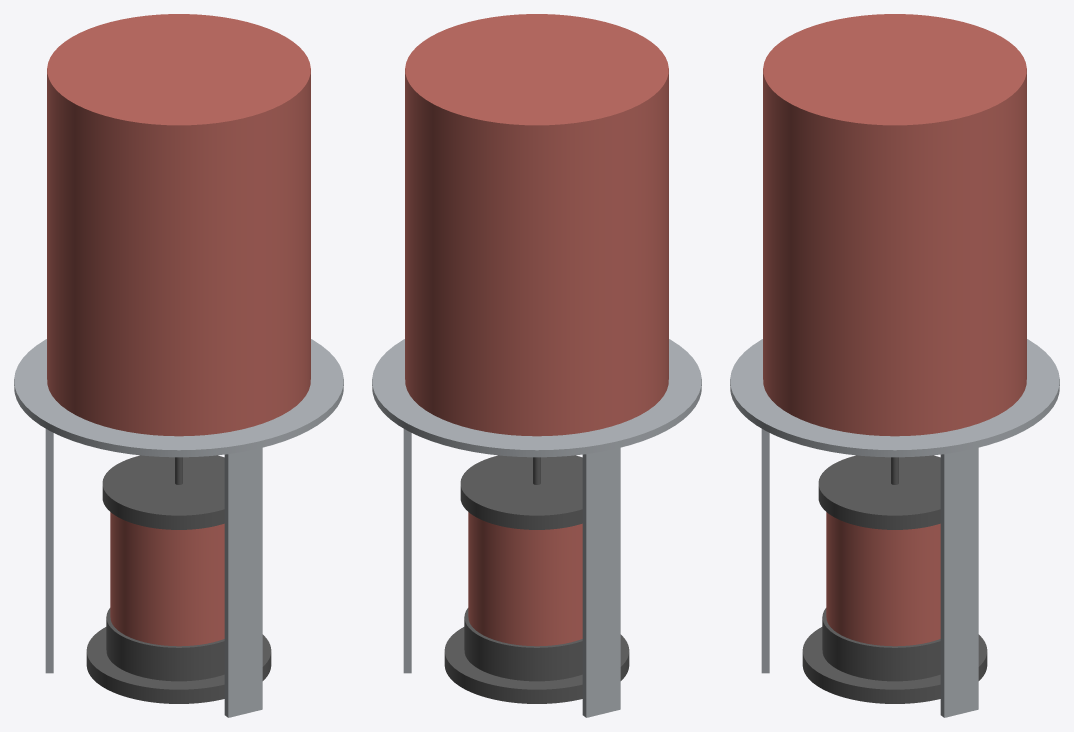
Rendered from step_04.glb.
3 views of the same model, side by side, from view 1: azimuth 30°, elevation 25°; view 2: azimuth 150°, elevation 25°; view 3: azimuth 270°, elevation 25° (orthographic).
Parts seen in each view (by area): view 1: part__topmark, part__lantern lens, part__topmark plate, part__topmark strut 3, part__lantern base, part__lantern cap, part__topmark strut 2; view 2: part__topmark, part__lantern lens, part__topmark plate, part__topmark strut 2, part__lantern base, part__lantern cap, part__topmark strut 1; view 3: part__topmark, part__lantern lens, part__topmark plate, part__topmark strut 1, part__lantern base, part__lantern cap, part__topmark strut 3.
Part boxes in pixels (x1,y1,x2,y2): part__topmark: (47, 14, 310, 436); part__lantern lens: (110, 512, 224, 646); part__topmark plate: (14, 339, 343, 457); part__topmark strut 3: (224, 447, 262, 717); part__lantern base: (86, 608, 271, 703); part__lantern cap: (102, 455, 224, 529); part__topmark strut 2: (45, 429, 53, 673); part__topmark: (405, 14, 668, 436); part__lantern lens: (468, 512, 582, 646); part__topmark plate: (372, 339, 701, 457); part__topmark strut 2: (582, 447, 620, 717); part__lantern base: (444, 608, 629, 703); part__lantern cap: (460, 455, 582, 529); part__topmark strut 1: (403, 429, 411, 673); part__topmark: (763, 14, 1026, 436); part__lantern lens: (826, 512, 940, 646); part__topmark plate: (730, 339, 1059, 457); part__topmark strut 1: (940, 447, 978, 717); part__lantern base: (802, 608, 987, 703); part__lantern cap: (818, 455, 940, 529); part__topmark strut 3: (761, 429, 769, 673).
Bounding box in the file's own units: 250 × 498 × 250.
